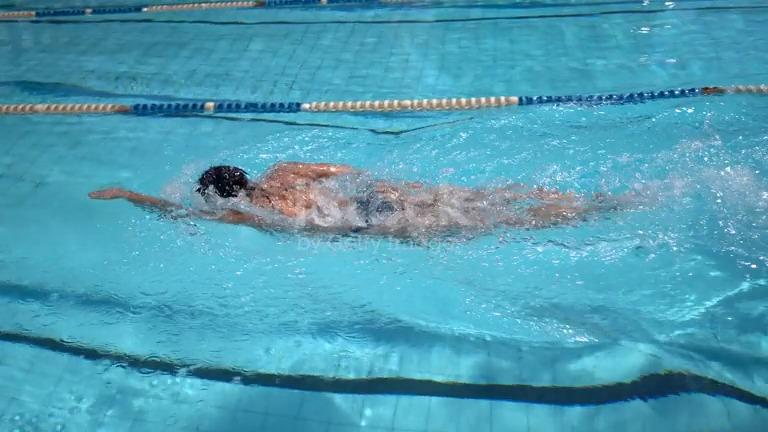Swimming: (61, 86, 668, 268)
